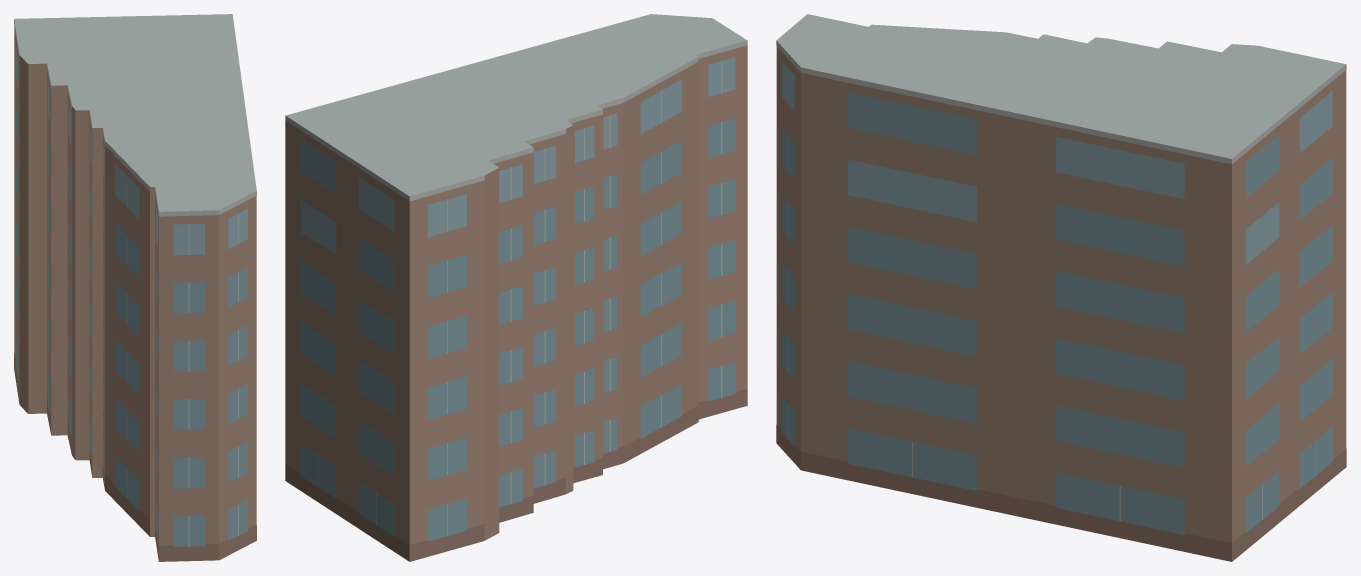
File: survey-upis-32939147.glb
3 renders of one model, left to right at view 1: azimuth 30°, elevation 25°; view 2: azimuth 150°, elevation 25°; view 3: azimuth 270°, elevation 25°, orthographic. The views are drawn at different scales.
Parts seen in each view (by area): view 1: survey-upis-32939147.tmp; view 2: survey-upis-32939147.tmp; view 3: survey-upis-32939147.tmp.
Part boxes in pixels (x1=…): survey-upis-32939147.tmp: x1=14, y1=14, x2=256, y2=561; survey-upis-32939147.tmp: x1=285, y1=14, x2=747, y2=561; survey-upis-32939147.tmp: x1=776, y1=14, x2=1346, y2=561.
Bounding box in the file's own units: 14.13 × 18.3 × 23.47.
